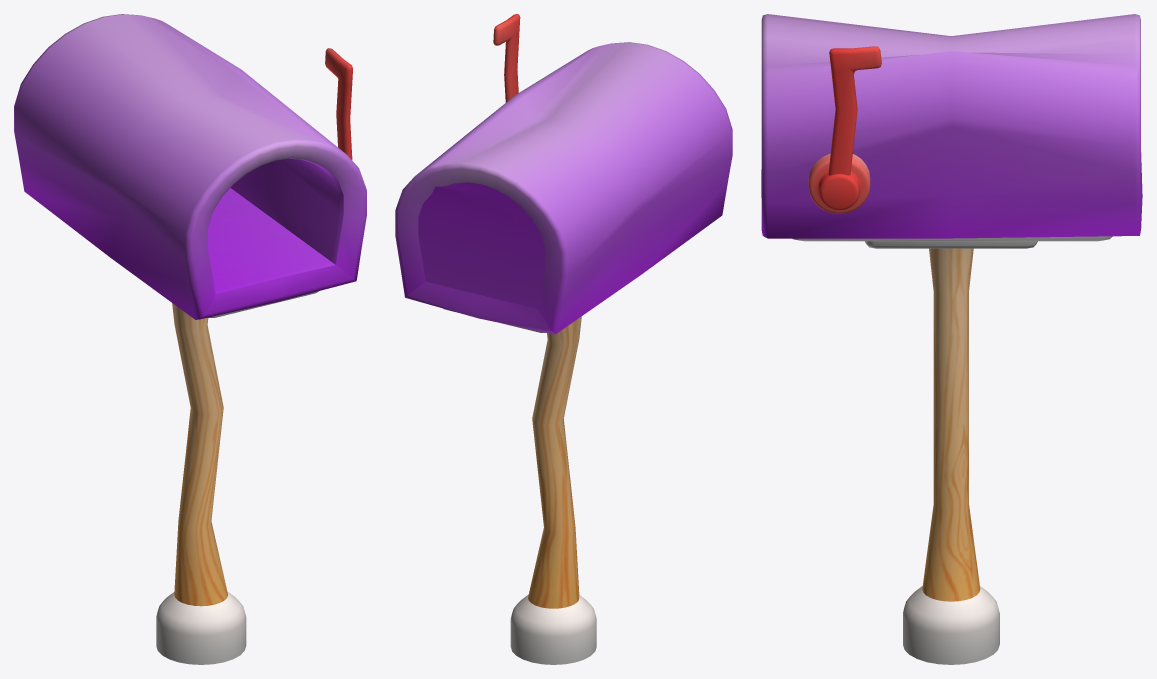
File: Mailbox_A_purple.fbx
3 renders of one model, left to right at view 1: azimuth 30°, elevation 25°; view 2: azimuth 150°, elevation 25°; view 3: azimuth 270°, elevation 25°, orthographic. The views are drawn at different scales.
Visible parts, largest first — view 1: MailboxA_purple; view 2: MailboxA_purple; view 3: MailboxA_purple.
Part boxes in pixels (x1,y1,x2,y2): MailboxA_purple: (14,14,366,664); MailboxA_purple: (395,14,732,664); MailboxA_purple: (761,14,1142,664).
Size of the model in its own units: 1.07 by 1.64 by 3.07.
